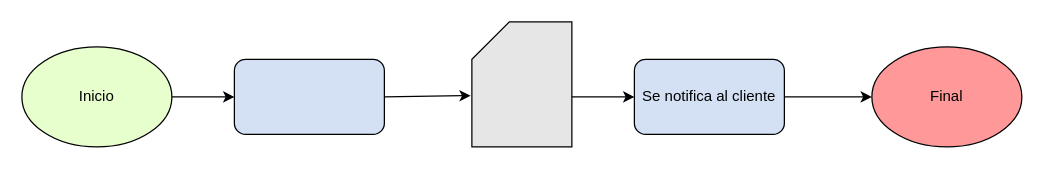
The diagram is 1044 pixels wide and 169 high, and some of its shapes have lost their labels. The centre of each missing label's shape, as x and y in pixels:
El cliente solicita conocer el estado actual del proyecto: the point at 308,96
Se realiza el documento necesario: the point at 521,84
